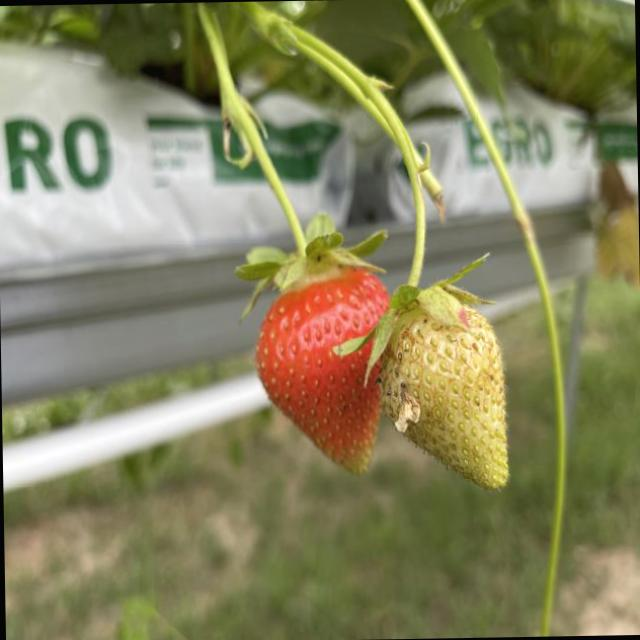stem: (199, 5, 383, 311), (353, 81, 469, 372)
strawberryNR: (379, 307, 507, 488)
strawberryR: (255, 269, 380, 471)
